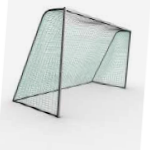goals: (11, 5, 133, 122)
